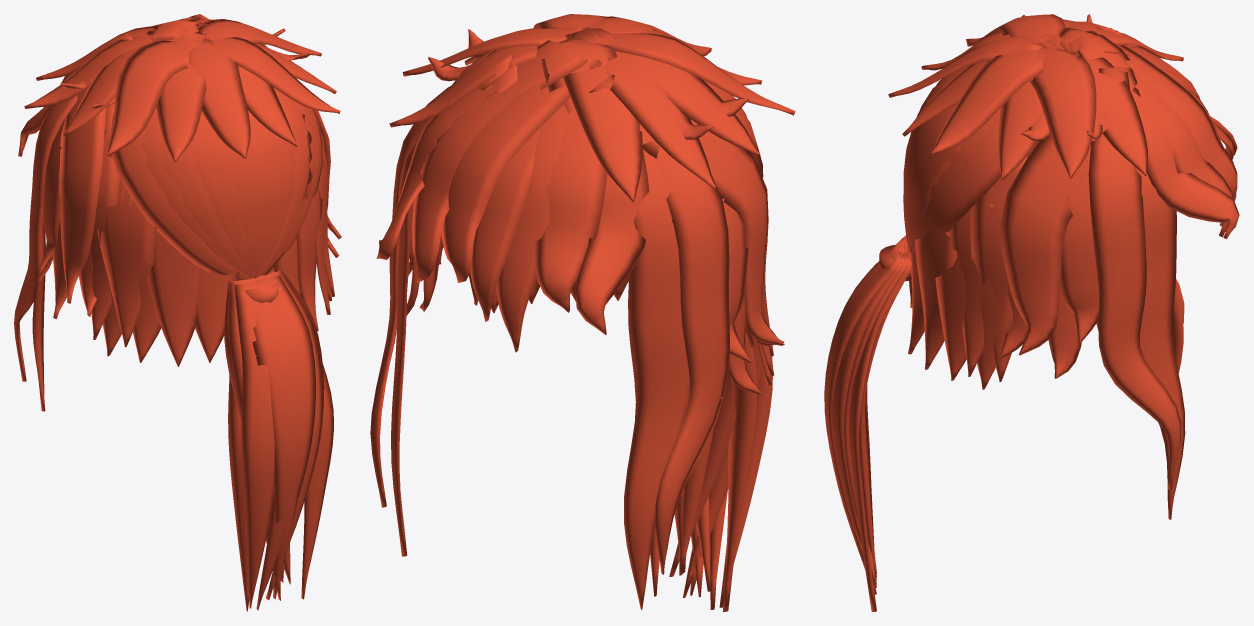
File: jenna_hair.fbx
The picture shows the model from 3 angles, left to right: view 1: azimuth 30°, elevation 25°; view 2: azimuth 150°, elevation 25°; view 3: azimuth 270°, elevation 25°; orthographic projection. The views are drawn at different scales.
Visible parts, largest first — view 1: JennaHair; view 2: JennaHair; view 3: JennaHair.
Boxes of the visible parts, x1,y1,x2,y2 form: JennaHair: (14,14,341,611); JennaHair: (370,14,795,611); JennaHair: (824,14,1239,611).
Bounding box in the file's own units: 174 × 304 × 205.
